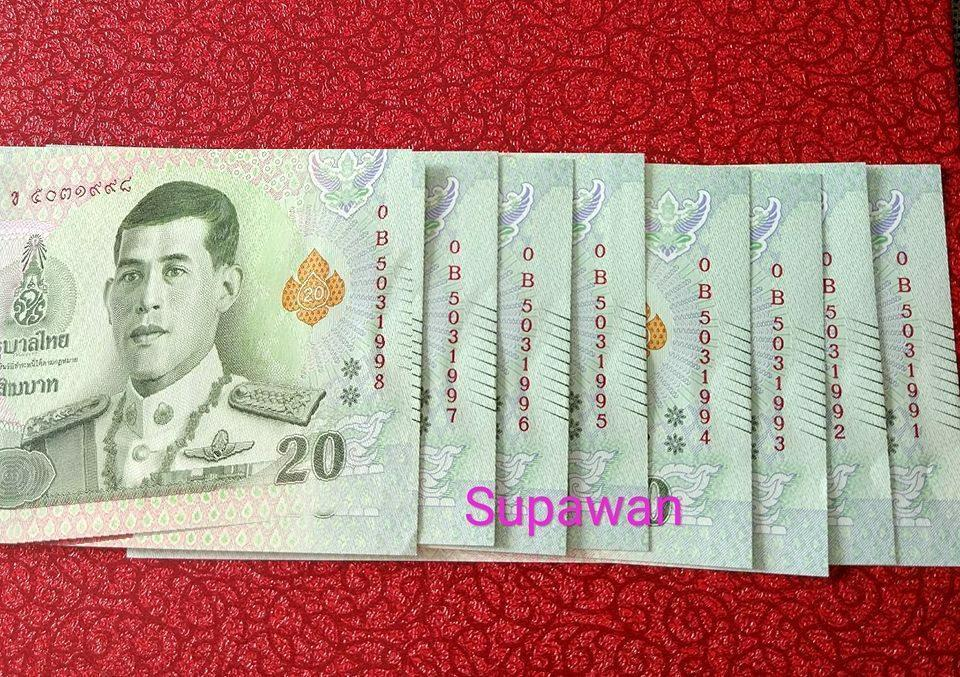20BahtTai: (6, 149, 412, 552)
